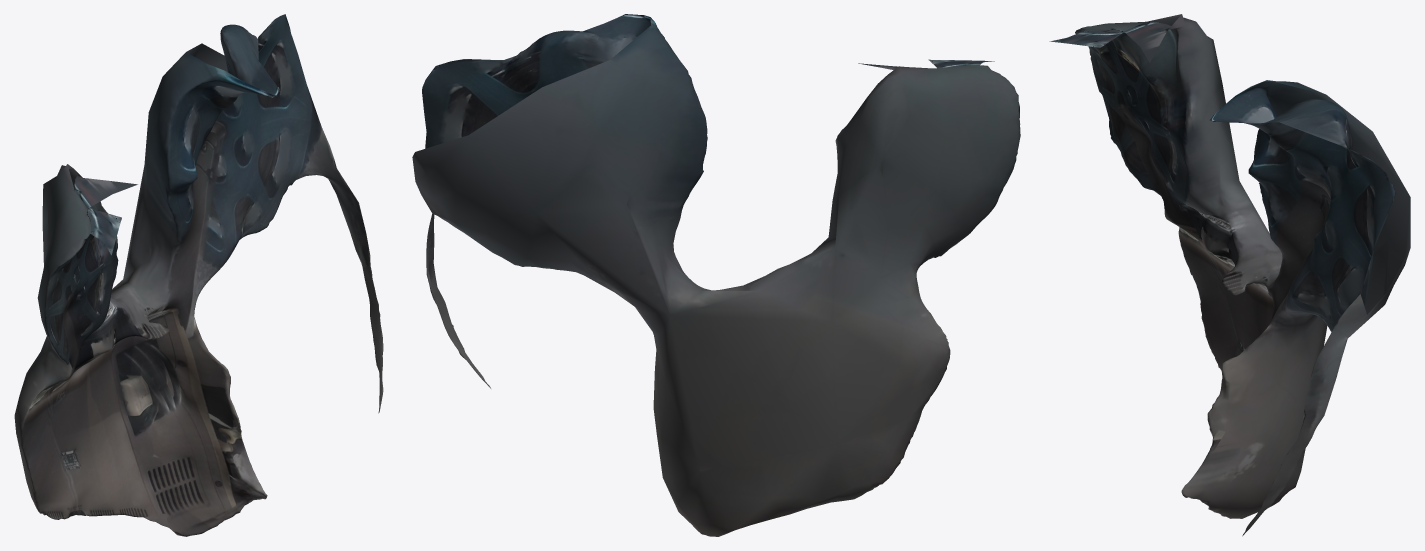
File: Projector.glb
3 views of the same model, side by side, from view 1: azimuth 30°, elevation 25°; view 2: azimuth 150°, elevation 25°; view 3: azimuth 270°, elevation 25° (orthographic). The views are drawn at different scales.
Parts seen in each view (by area): view 1: 3DModel; view 2: 3DModel; view 3: 3DModel.
Part boxes in pixels (x1=…): 3DModel: x1=14, y1=14, x2=383, y2=536; 3DModel: x1=412, y1=14, x2=1020, y2=536; 3DModel: x1=1049, y1=14, x2=1410, y2=536.
Bounding box in the file's own units: 0.3809 × 0.3874 × 0.277.
1 material, 1 textured.
